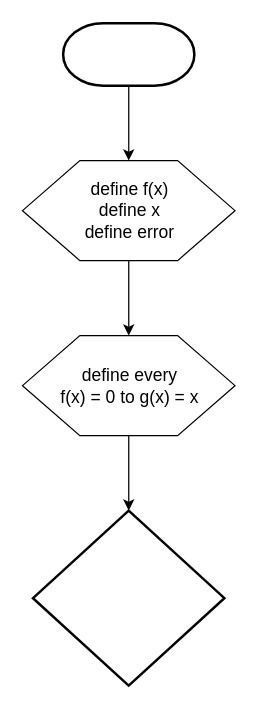
Some shapes in this 256 by 708 pixel diagram are drawn without their labels. Here are the shapes that lost their labels. From the top down, the centre of each, then its label:
At [128,53]: "START".
At [128,597]: "|g'(x)| < 1?".
